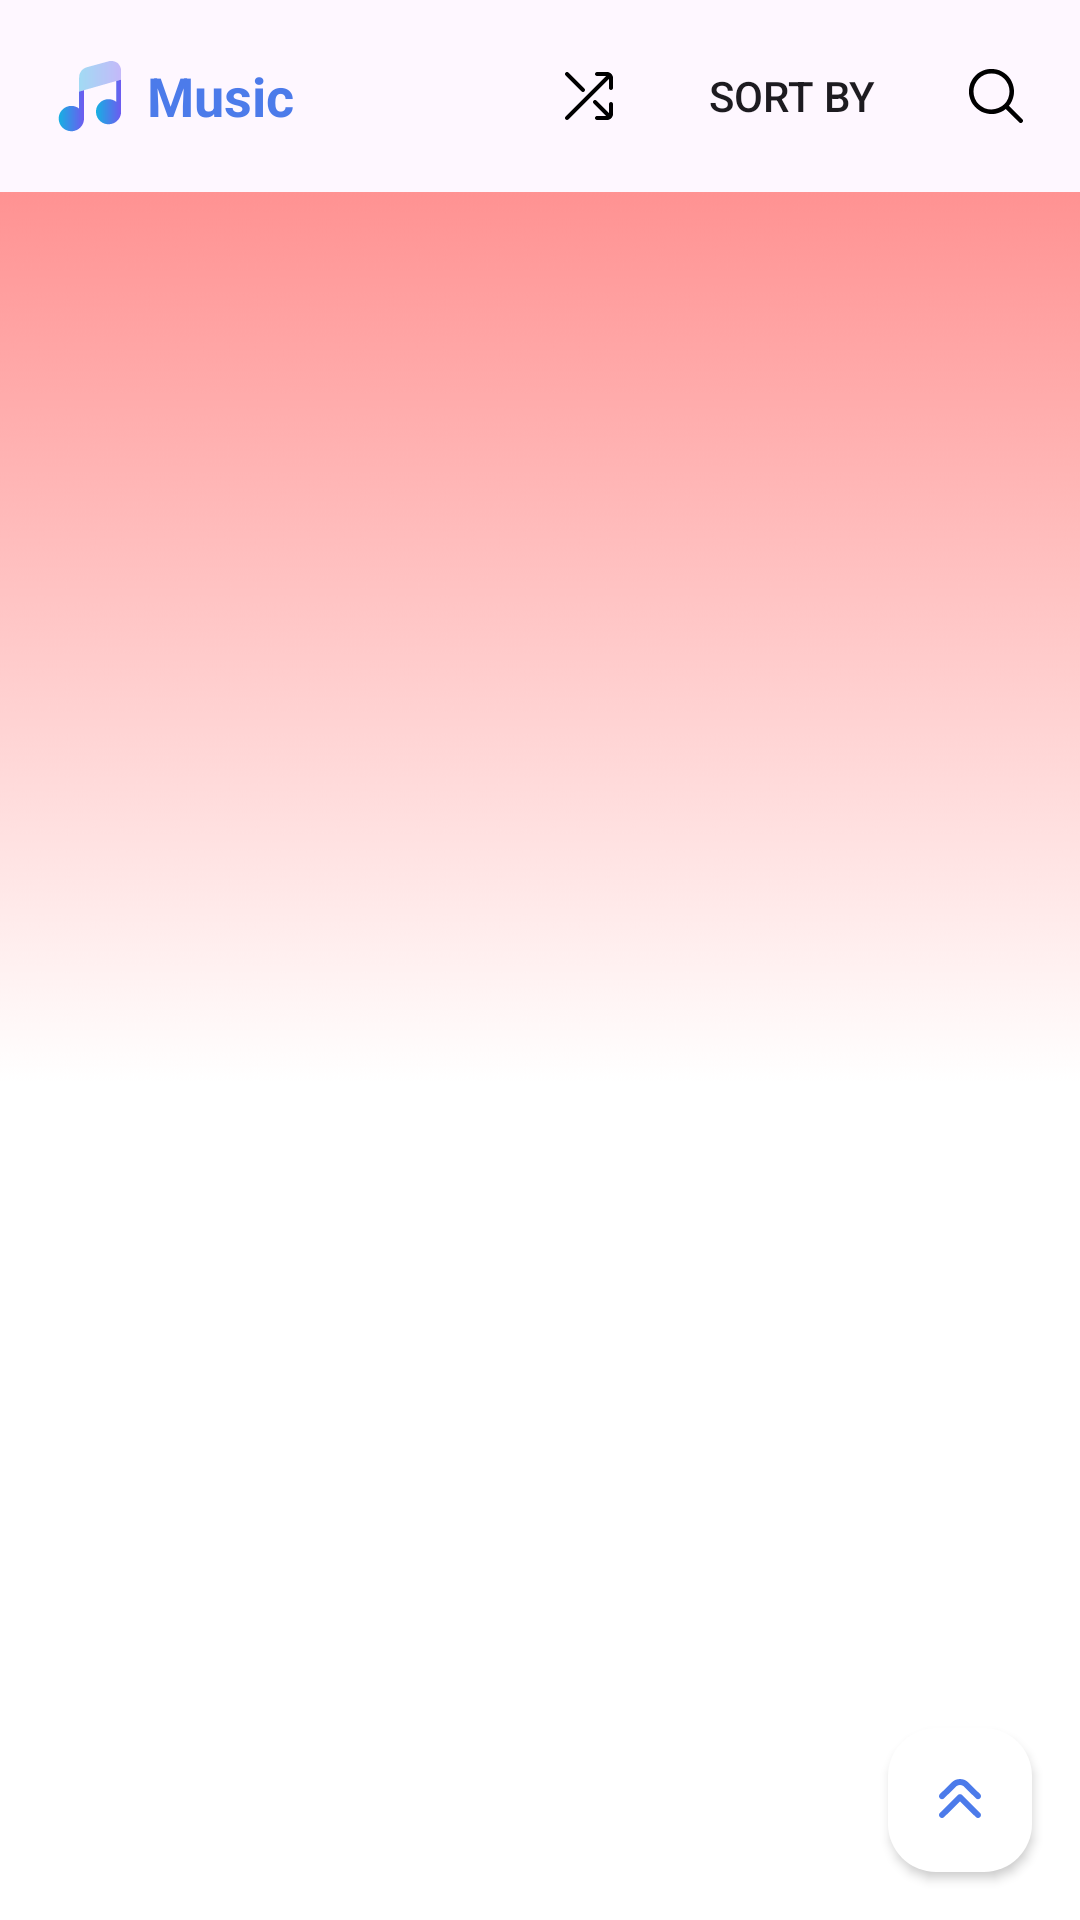

Screen size 1080*1920. Icon name, then its box in pixels as (x1, y1, x2, y2):
scroll to top: (939, 1779, 981, 1818)
